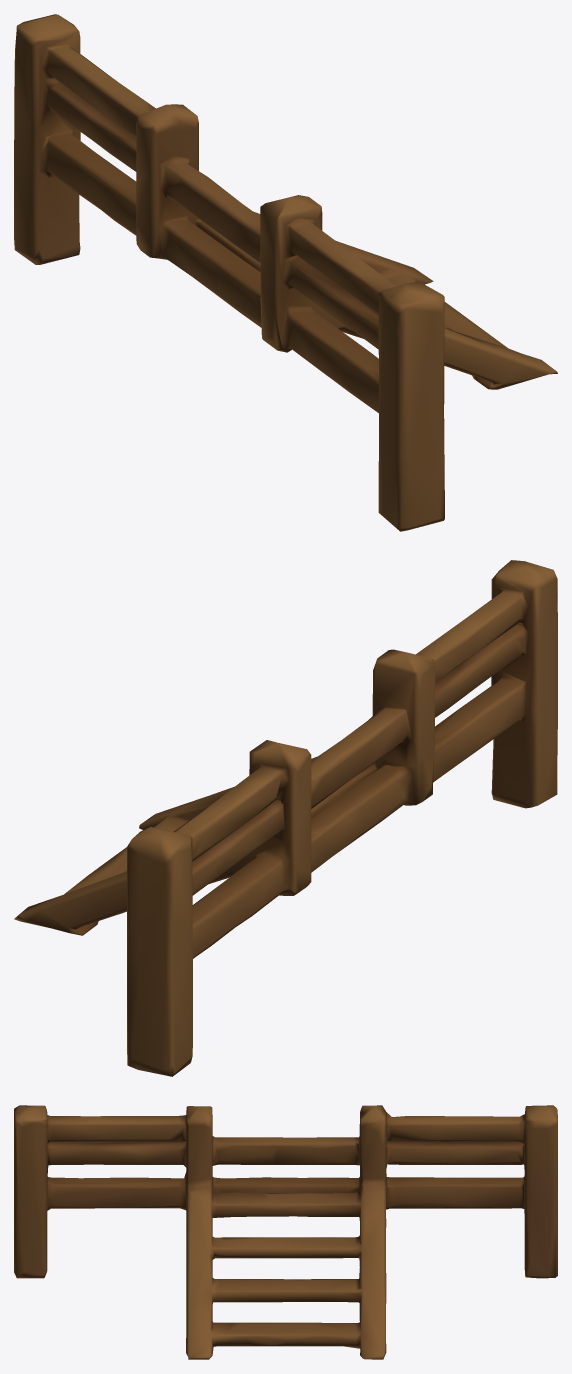
The model's file is gen3d-wooden-stile-lod0.glb.
3 views of the same model, one above another, from view 1: azimuth 30°, elevation 25°; view 2: azimuth 150°, elevation 25°; view 3: azimuth 270°, elevation 25° (orthographic). The views are drawn at different scales.
Parts seen in each view (by area): view 1: part_0; view 2: part_0; view 3: part_0.
Boxes of the visible parts, x1,y1,x2,y2 form: part_0: (14,14,557,531); part_0: (14,560,557,1076); part_0: (14,1105,557,1359).
Bounding box in the file's own units: 1.24 × 0.9911 × 2.95.
